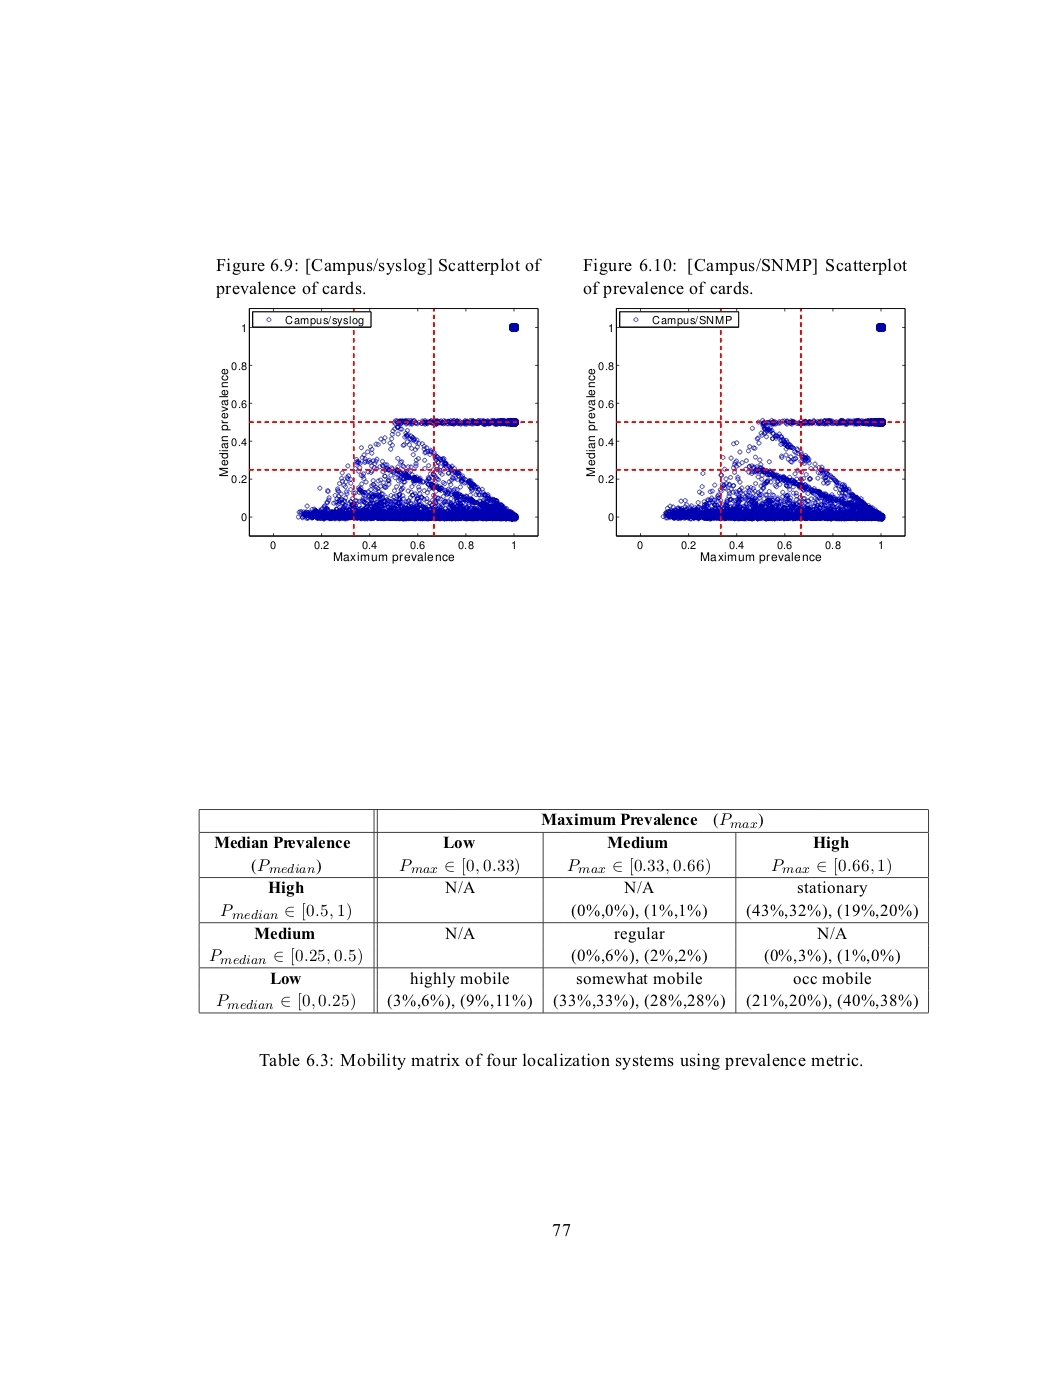Table: (198, 808, 928, 1014)
figure: (220, 308, 538, 563), (586, 308, 905, 563)
